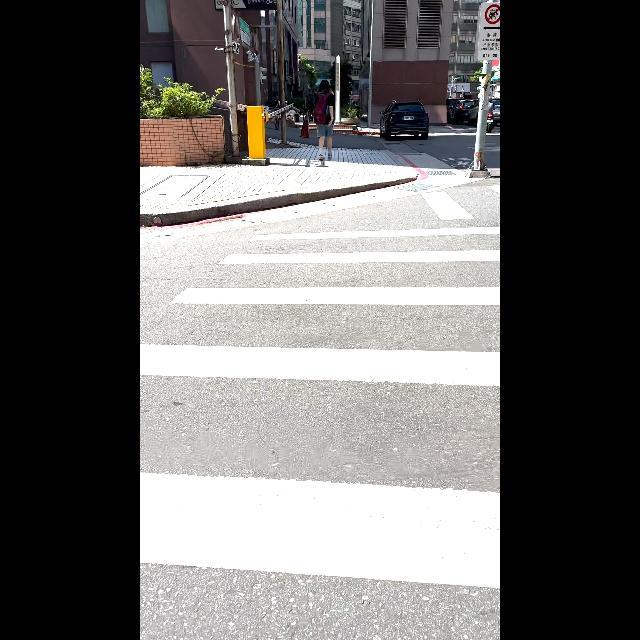sidewalk: (143, 227, 497, 590)
